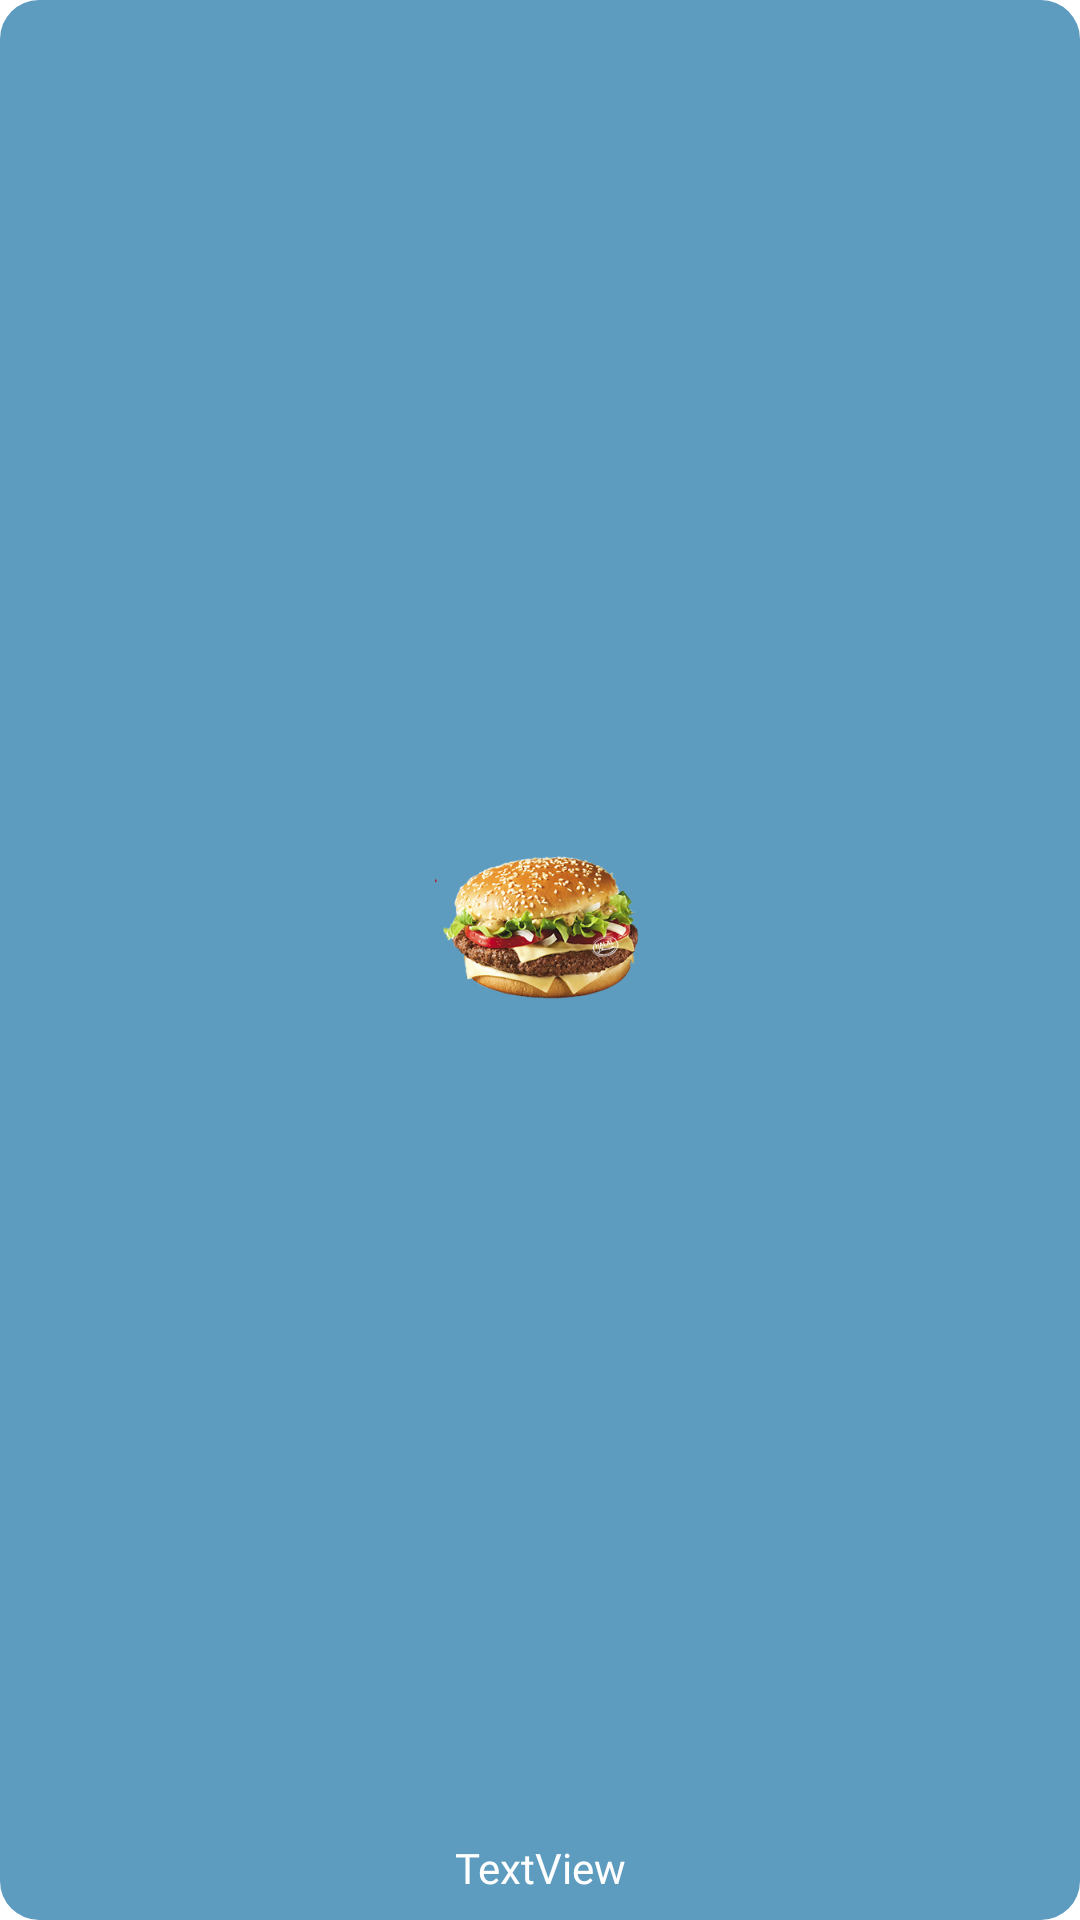

Locate icon controls on the screen. Image size 1080×1920, boxes as [x1=x1, y1=y1, x2=x2, y2=y2].
burger: [x1=435, y1=856, x2=638, y2=999]
